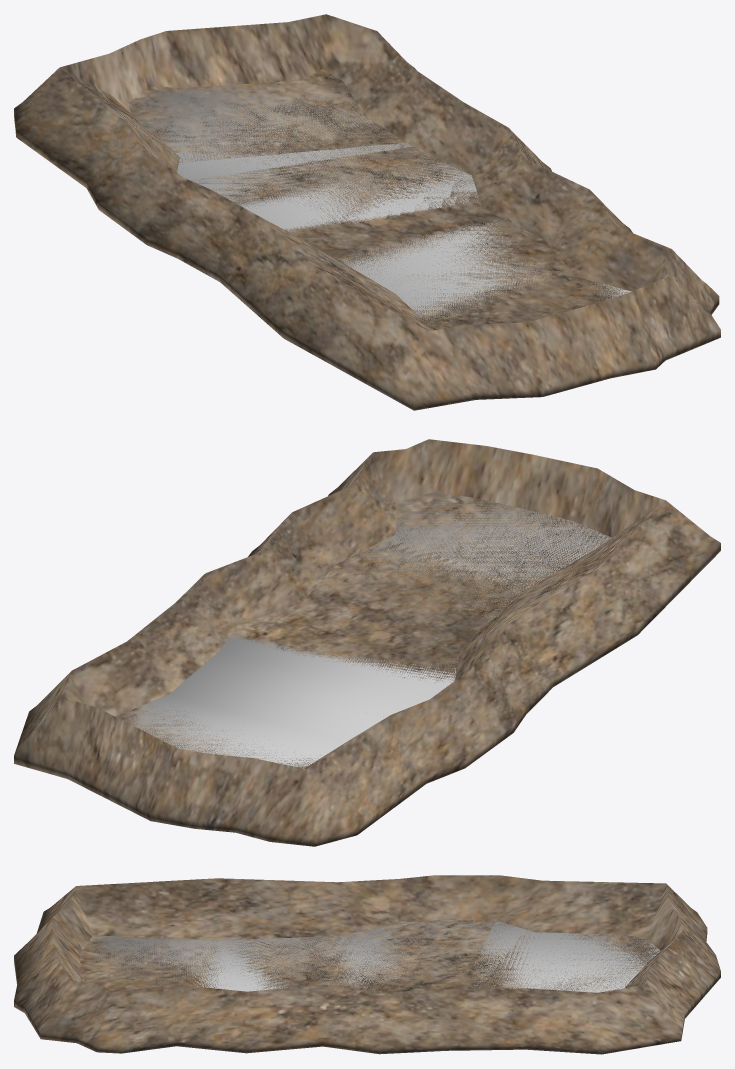
File: cf_ta_depr.obj
The picture shows the model from 3 angles, top to bottom: view 1: azimuth 30°, elevation 25°; view 2: azimuth 150°, elevation 25°; view 3: azimuth 270°, elevation 25°; orthographic projection. The views are drawn at different scales.
Parts seen in each view (by area): view 1: depression_Plane.002; view 2: depression_Plane.002; view 3: depression_Plane.002.
Boxes of the visible parts, box(x1,y1,x2,y2) form: depression_Plane.002: box(14, 14, 720, 410); depression_Plane.002: box(14, 439, 720, 846); depression_Plane.002: box(14, 875, 720, 1054).
Bounding box in the file's own units: 9.89 × 1.42 × 19.88.
